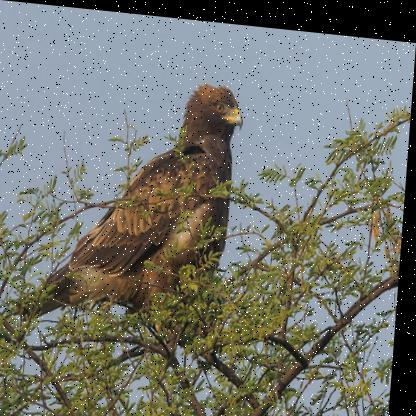Burung: (16, 65, 248, 356)
